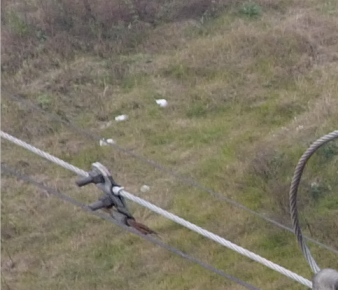damper_defect: (71, 160, 158, 238)
